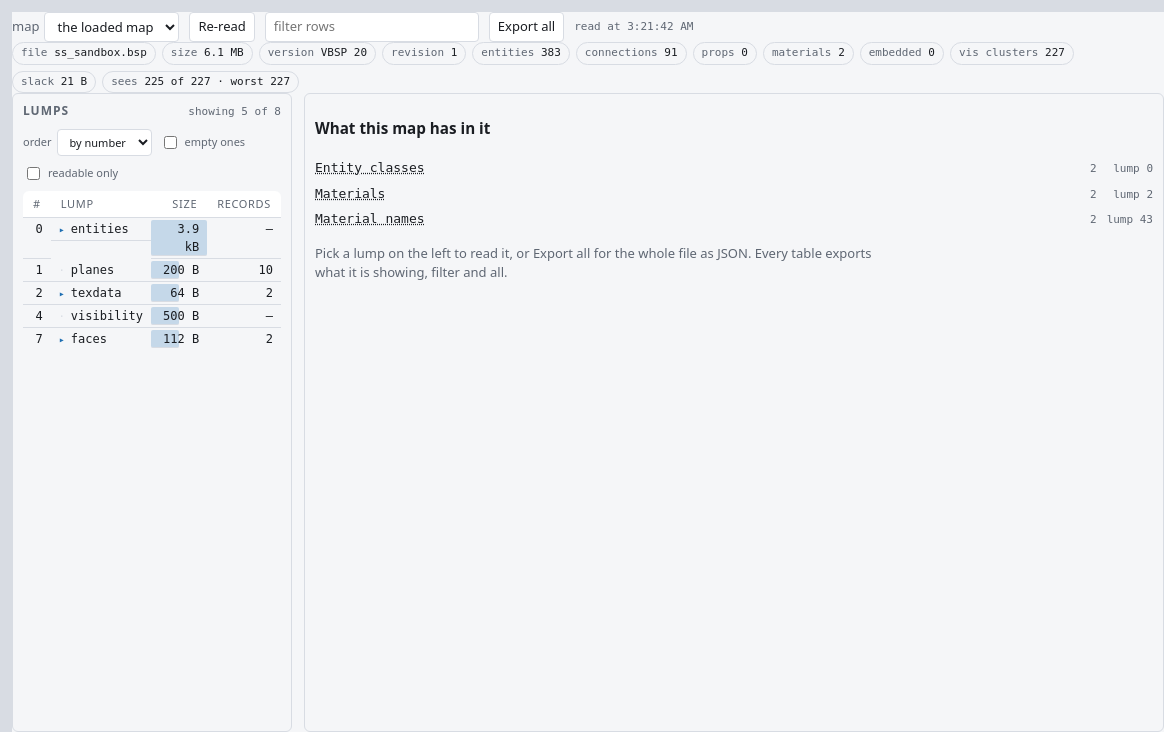
Test: the lump table › hides the lumps nothing here can read
The width and height of the screenshot is (1164, 732).
expect the text "ss_sandbox.bsp" is shown: met, box [54,46,147,59]
expect the row "4 visibility 500 B —" is shown: met, box [23,304,281,328]
Click the checkbox labelled "readable only" at (34, 173), box [27,166,40,180]
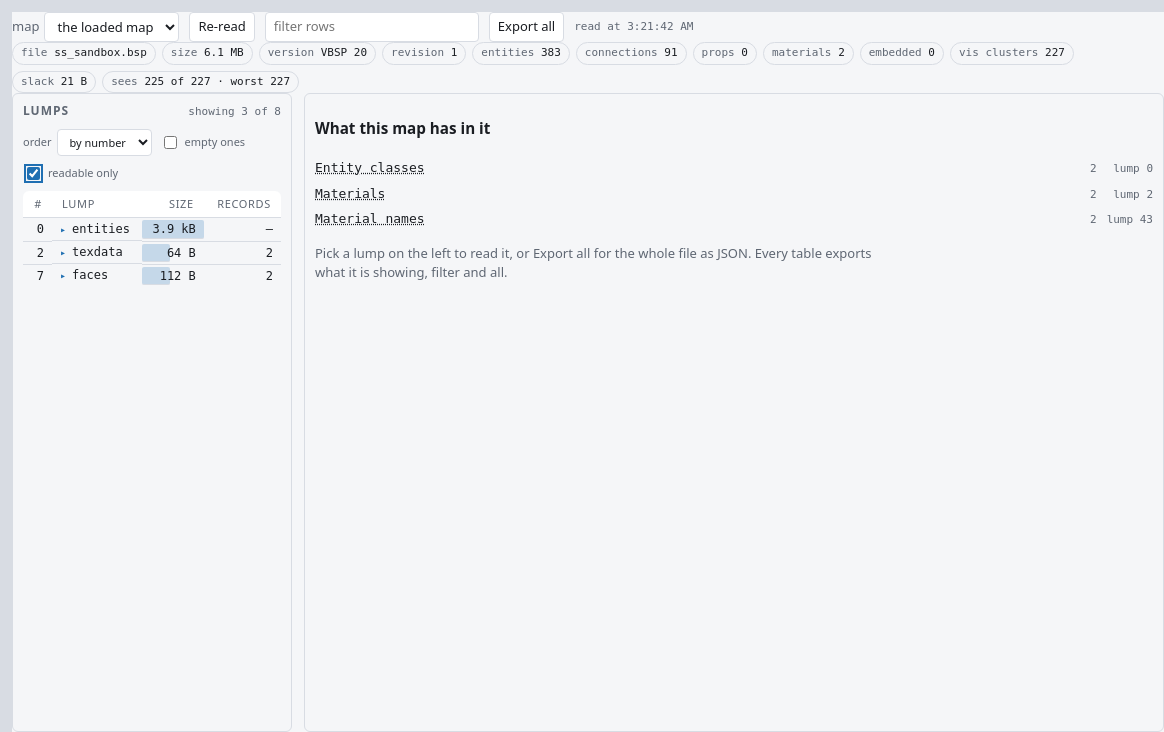
expect the row "2 texdata 64 B 2" is shown: met, box [23,241,281,264]
expect the cell "visibility" is gone: met
